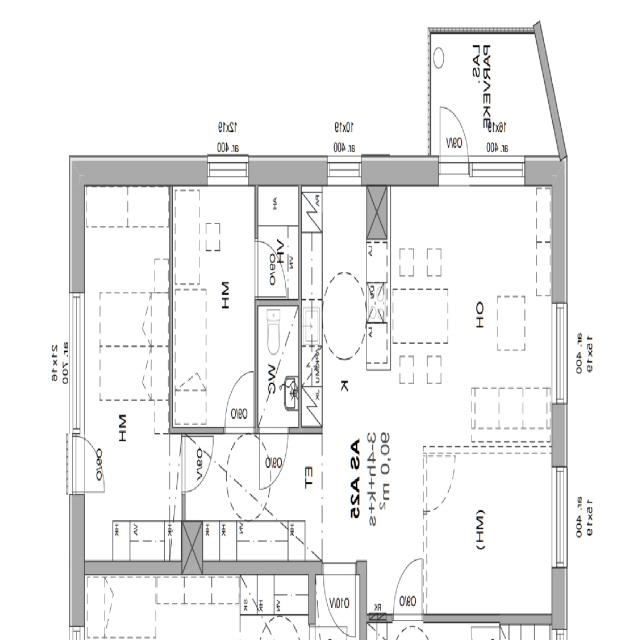door: (440, 99, 469, 186), (324, 561, 356, 638), (69, 437, 112, 492), (393, 558, 422, 624), (259, 427, 287, 489), (225, 372, 253, 434), (254, 242, 286, 296), (182, 437, 213, 492)
